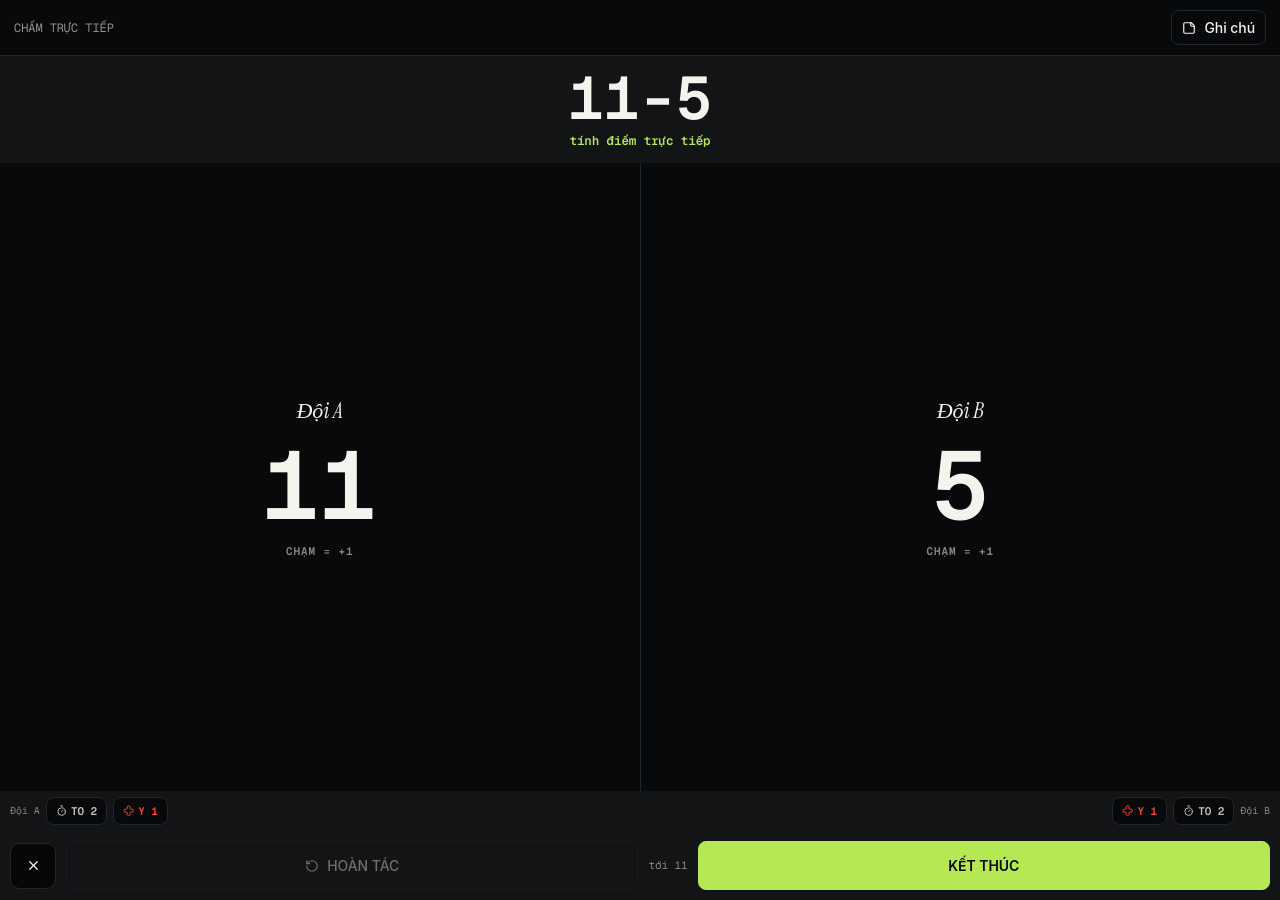
RefereeScoringScreen › failed finish preserves resume state and can retry without duplicate live cleanup
Later steps or results of the test are not shown.
Click the button "KẾT THÚC" at (984, 866), box [698,841,1270,890]
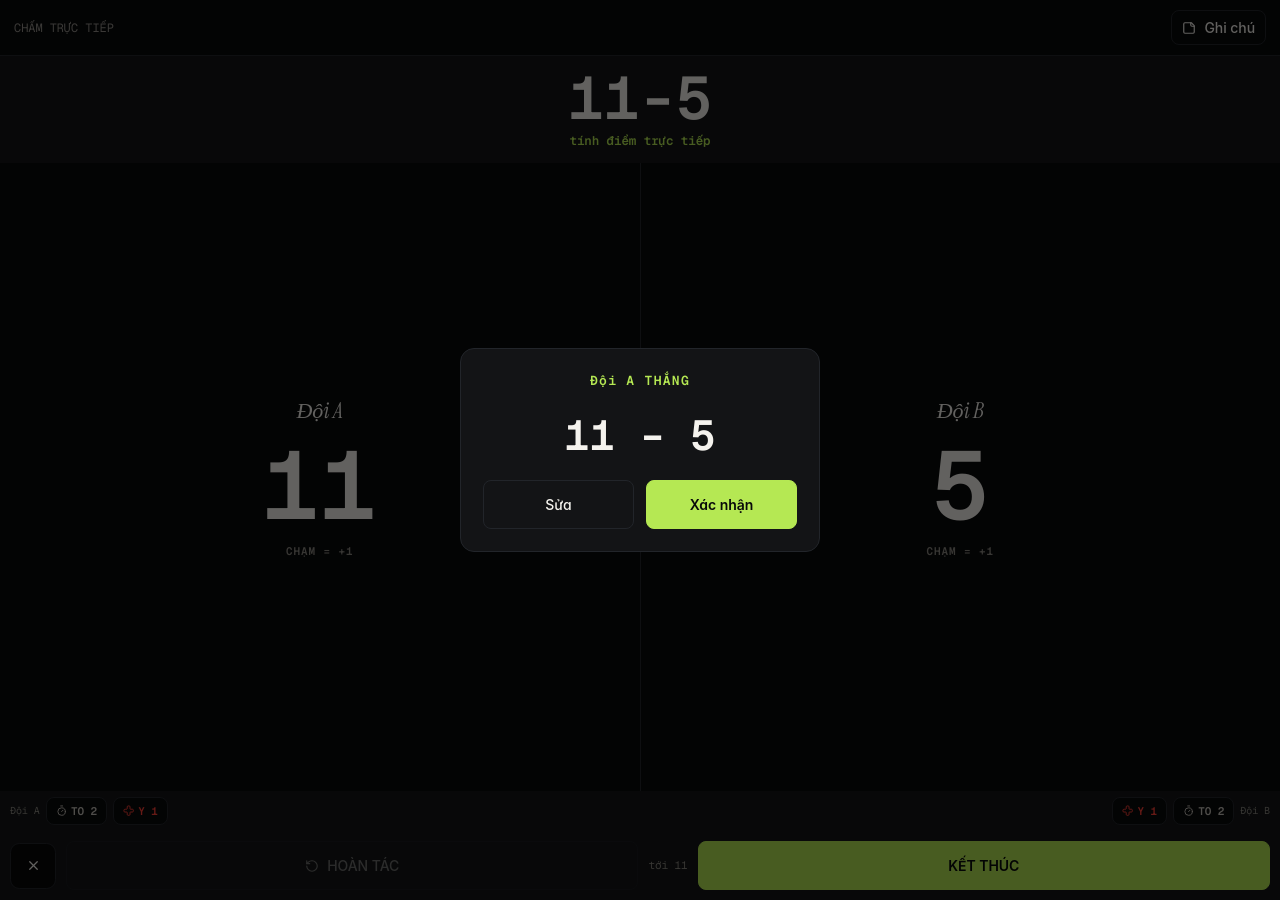
Click the button "Xác nhận" at (722, 504), box [646,480,797,529]
Now the button "Xác nhận" is enabled, box [646,480,797,529]
